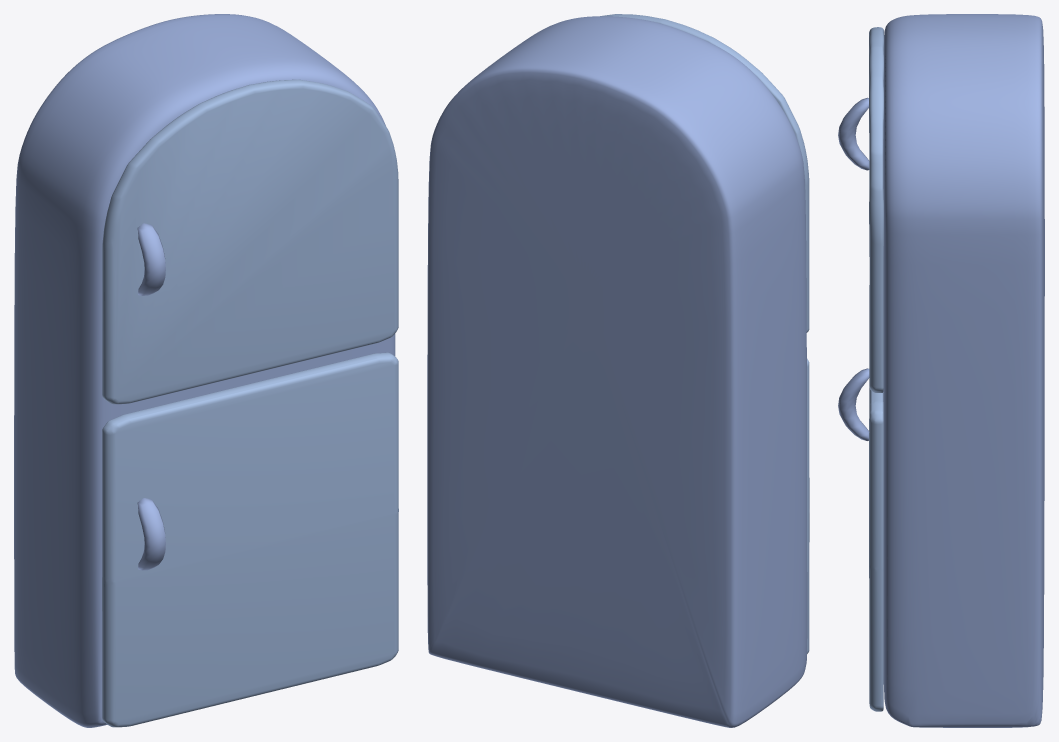
File: Refrigerator.fbx
3 views of the same model, side by side, from view 1: azimuth 30°, elevation 25°; view 2: azimuth 150°, elevation 25°; view 3: azimuth 270°, elevation 25° (orthographic).
Parts seen in each view (by area): view 1: Refrigerator; view 2: Refrigerator; view 3: Refrigerator.
Part boxes in pixels (left/top/right/bottom): Refrigerator: left=14, top=14, right=398, bottom=727; Refrigerator: left=427, top=14, right=809, bottom=727; Refrigerator: left=838, top=14, right=1044, bottom=727.
Bounding box in the file's own units: 95.91 × 183 × 55.4.
